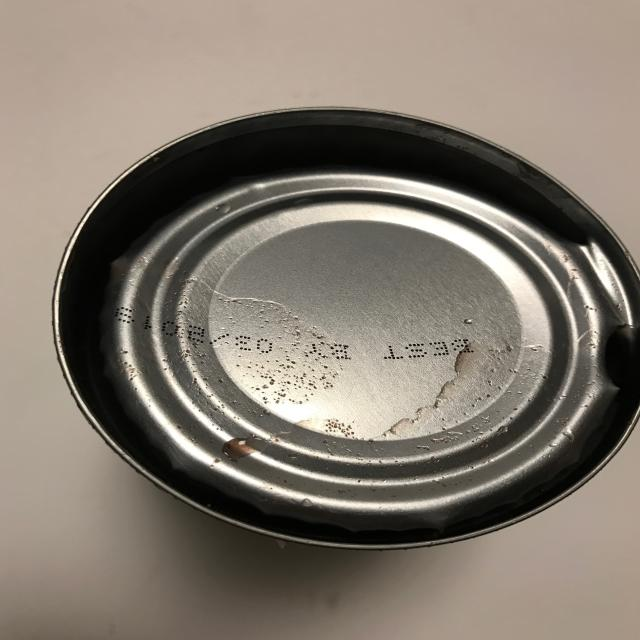metal: (52, 105, 640, 550)
